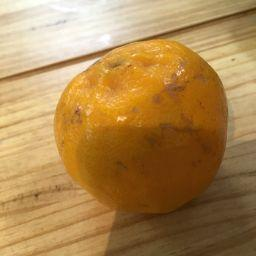Ripe: (51, 41, 227, 215)
